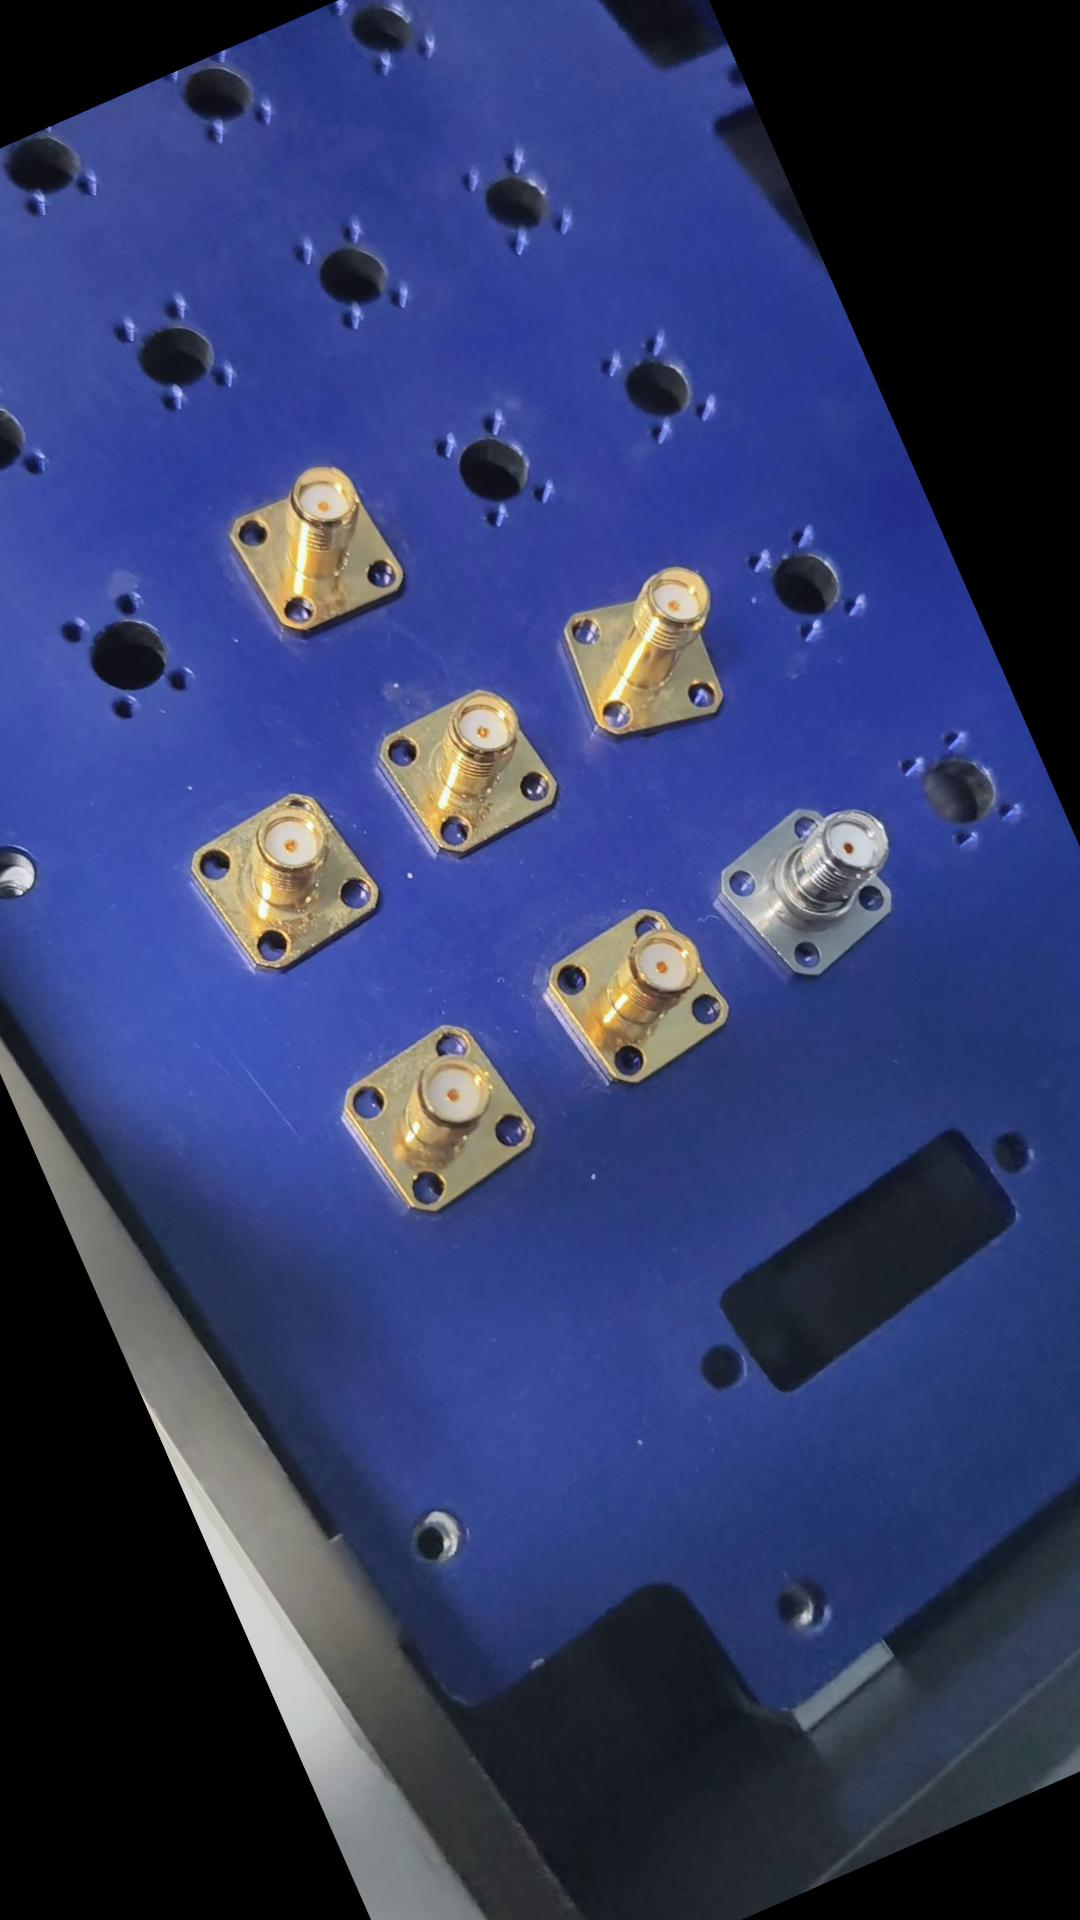SMA: (320, 992, 556, 1232), (521, 878, 748, 1110), (164, 771, 398, 993), (211, 436, 436, 655), (702, 774, 918, 998), (365, 665, 575, 873), (549, 553, 756, 758)
